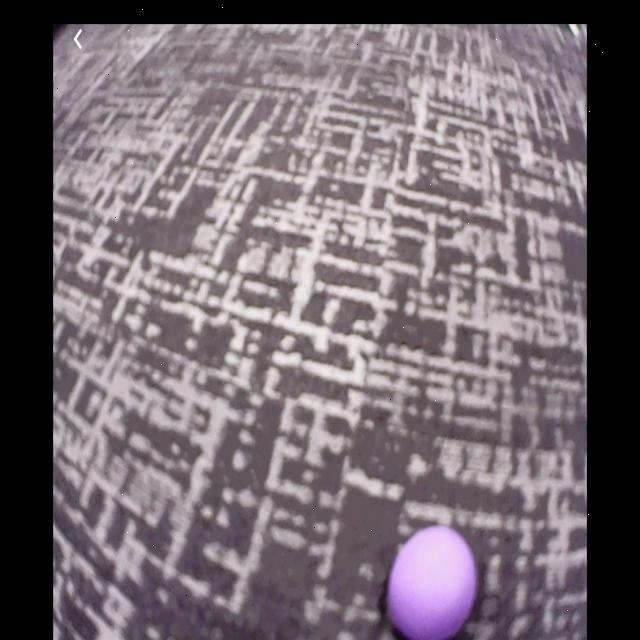ball: (387, 526, 477, 639)
